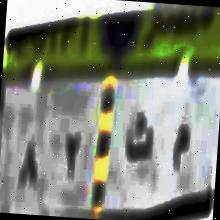2: (58, 123, 86, 190)
8: (13, 131, 44, 200)
meem: (167, 115, 193, 190)
thaa: (122, 106, 157, 179)
